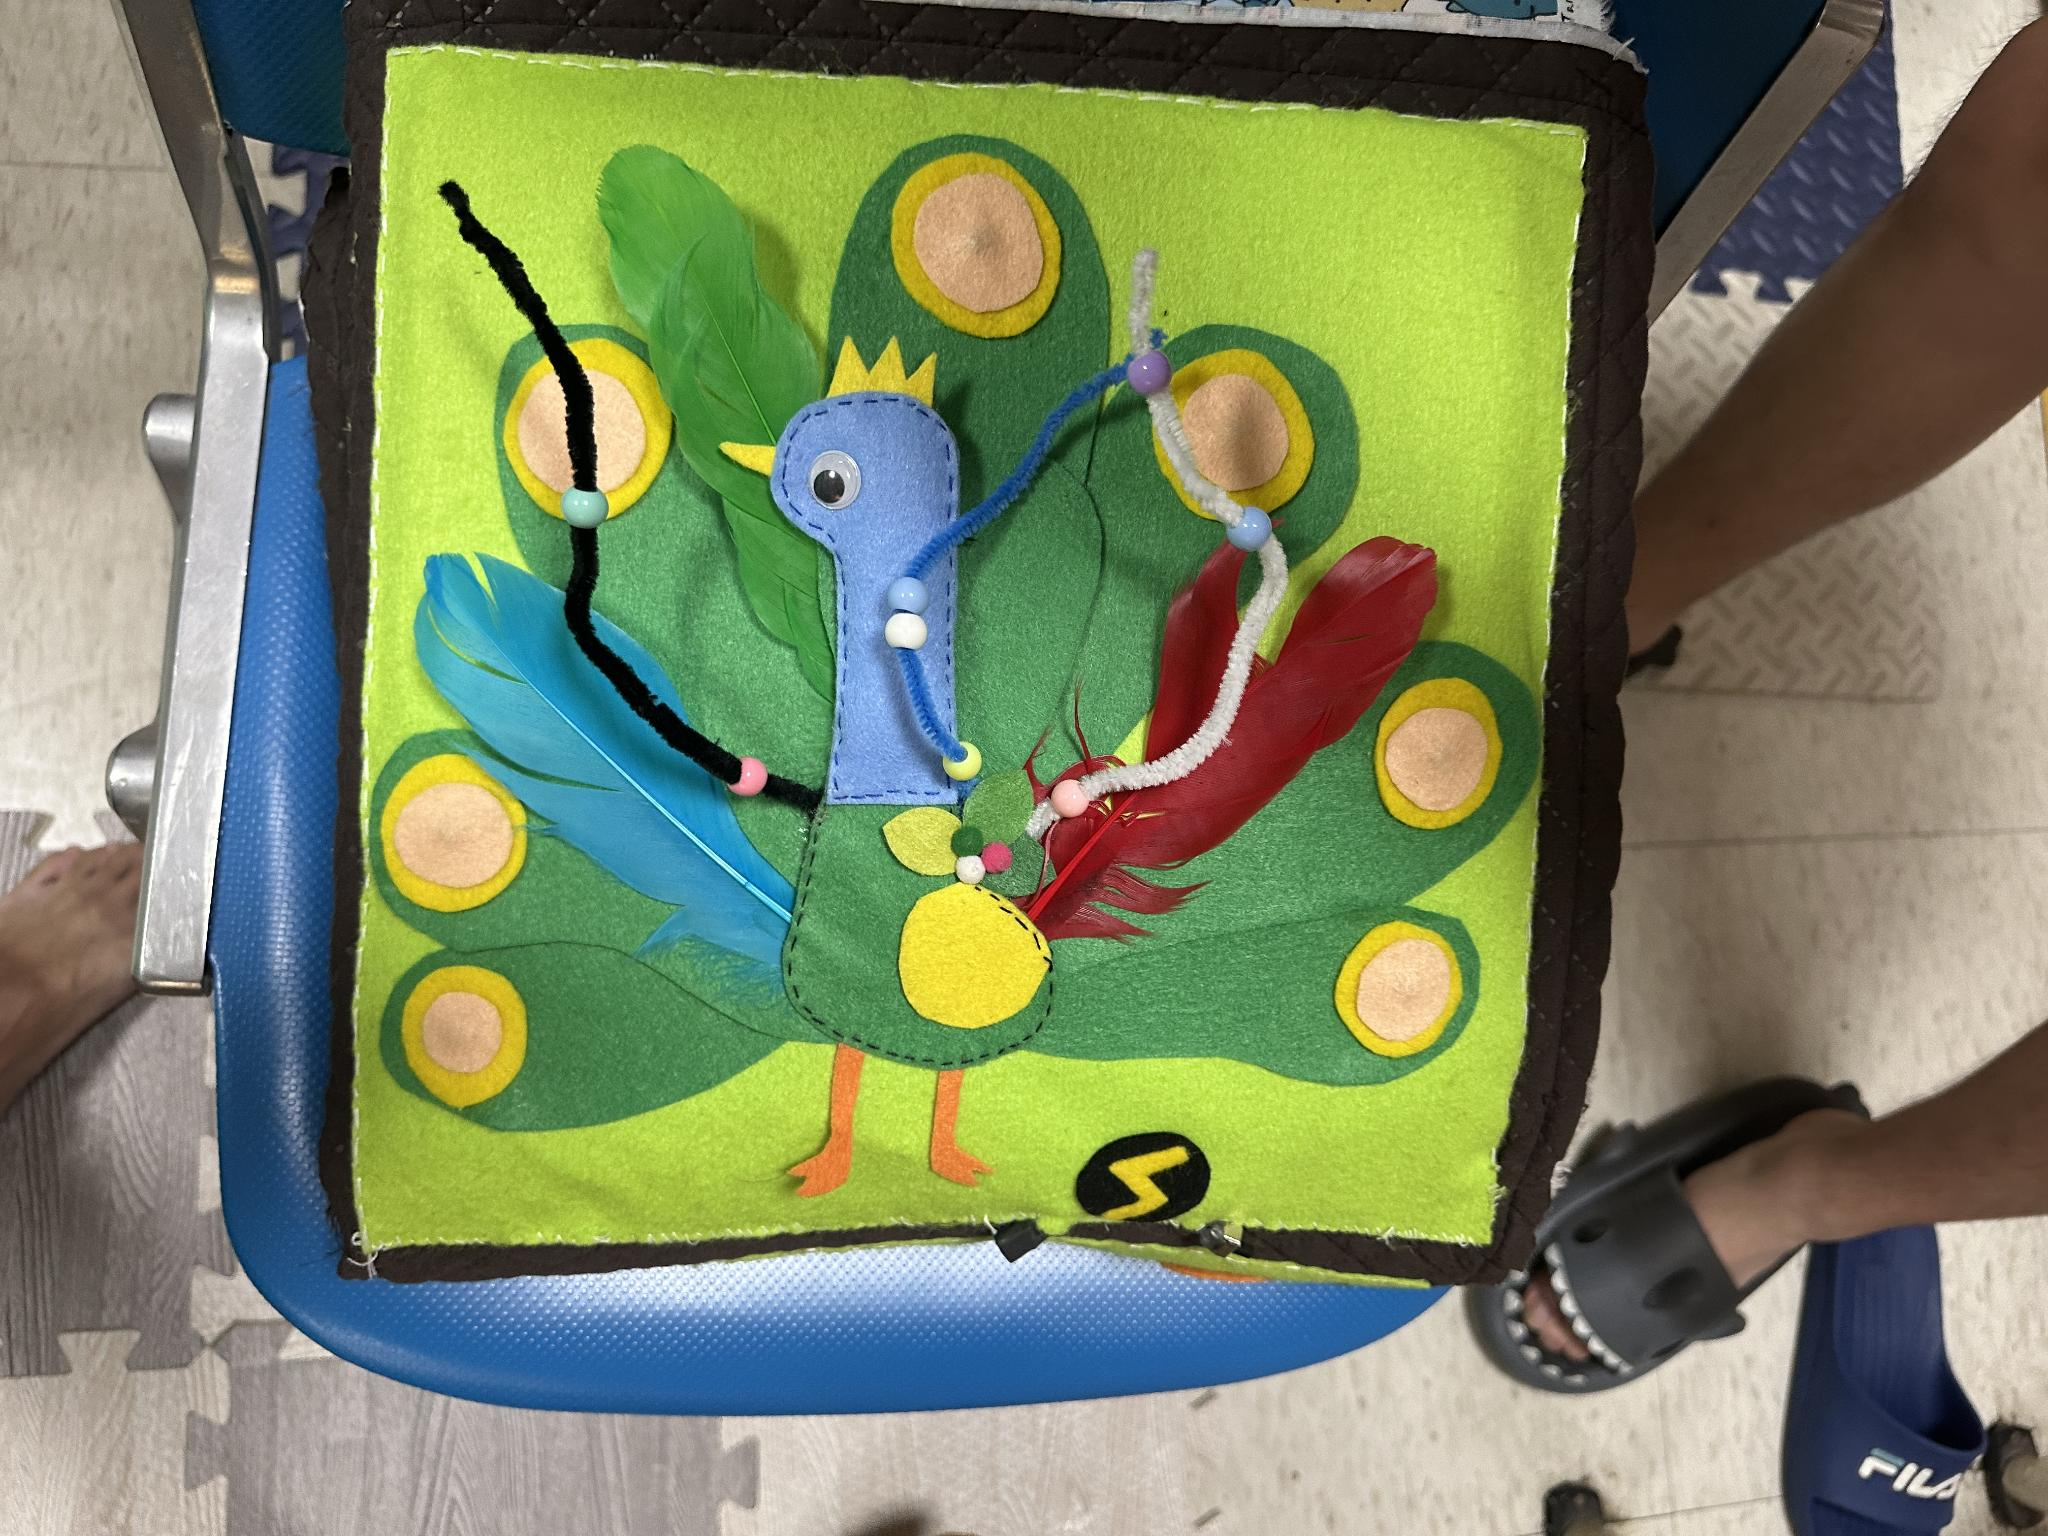bead: (1113, 353, 1200, 405), (1219, 495, 1295, 549), (727, 739, 777, 797), (1047, 779, 1105, 824), (940, 744, 1006, 781), (884, 618, 948, 655), (884, 578, 935, 620), (563, 490, 608, 532)
